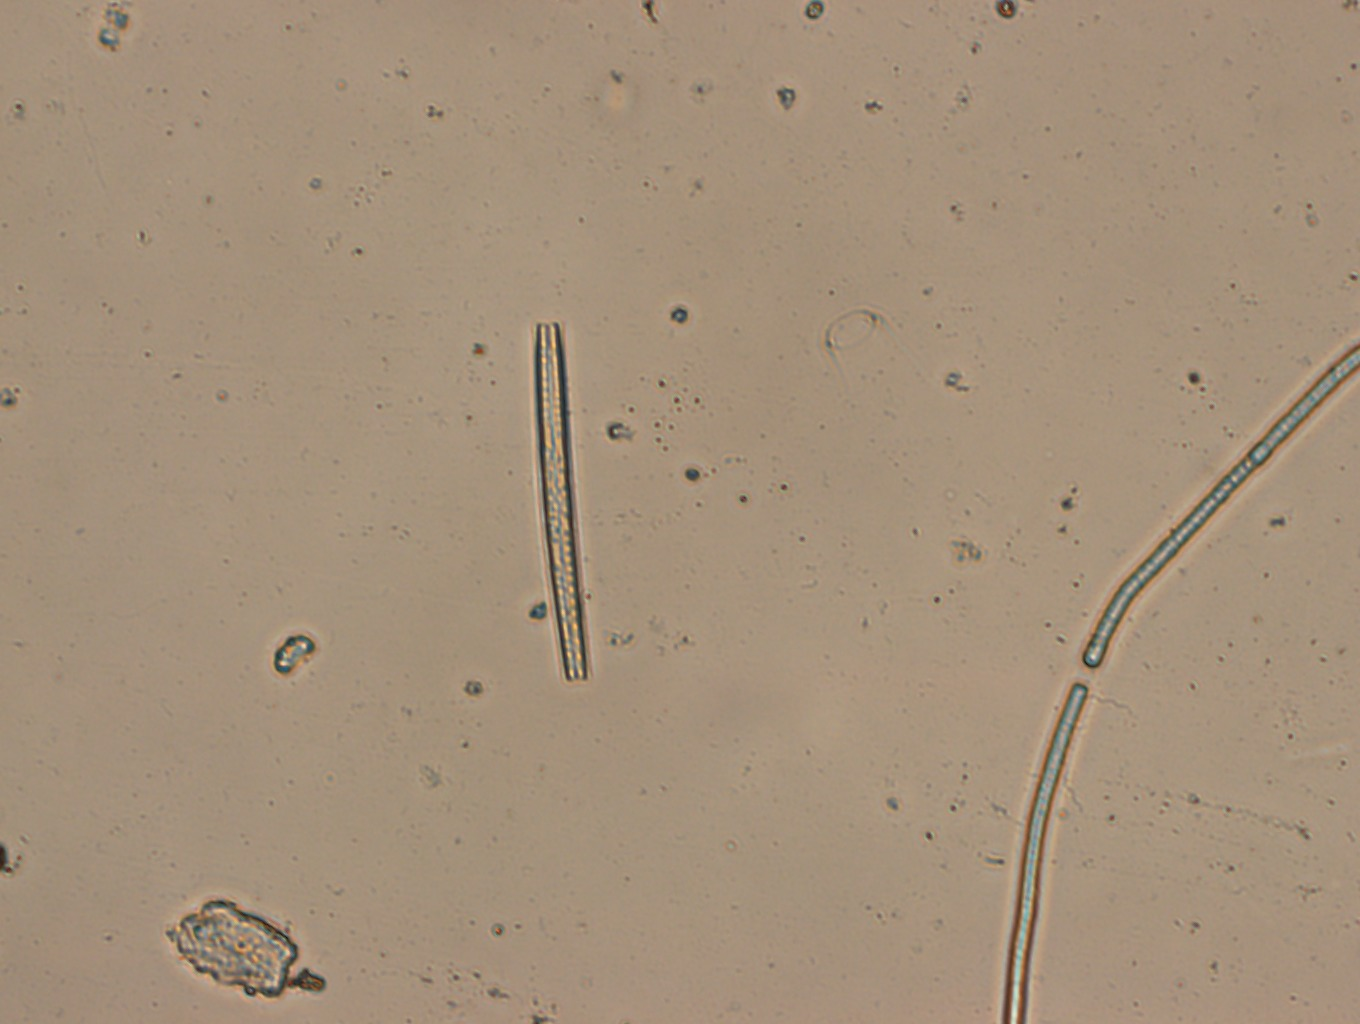thalassionema nitzschioides: (531, 324, 589, 682)
